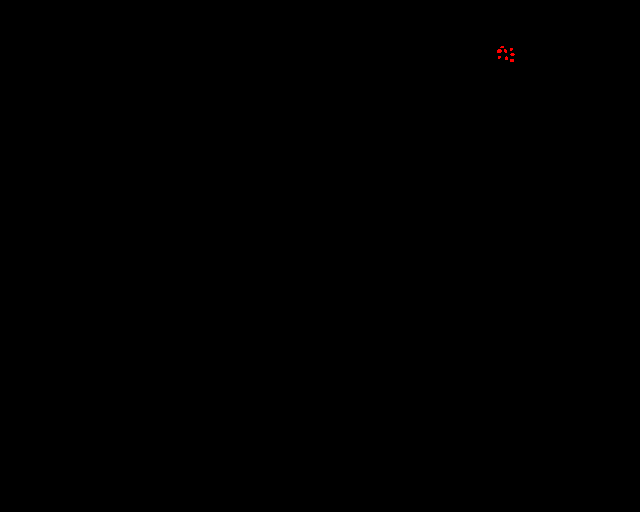Target: (497, 49, 502, 53), (510, 53, 515, 56), (504, 49, 507, 53), (505, 56, 508, 60), (510, 59, 514, 62), (510, 48, 513, 51), (498, 56, 501, 59), (500, 46, 504, 48)
